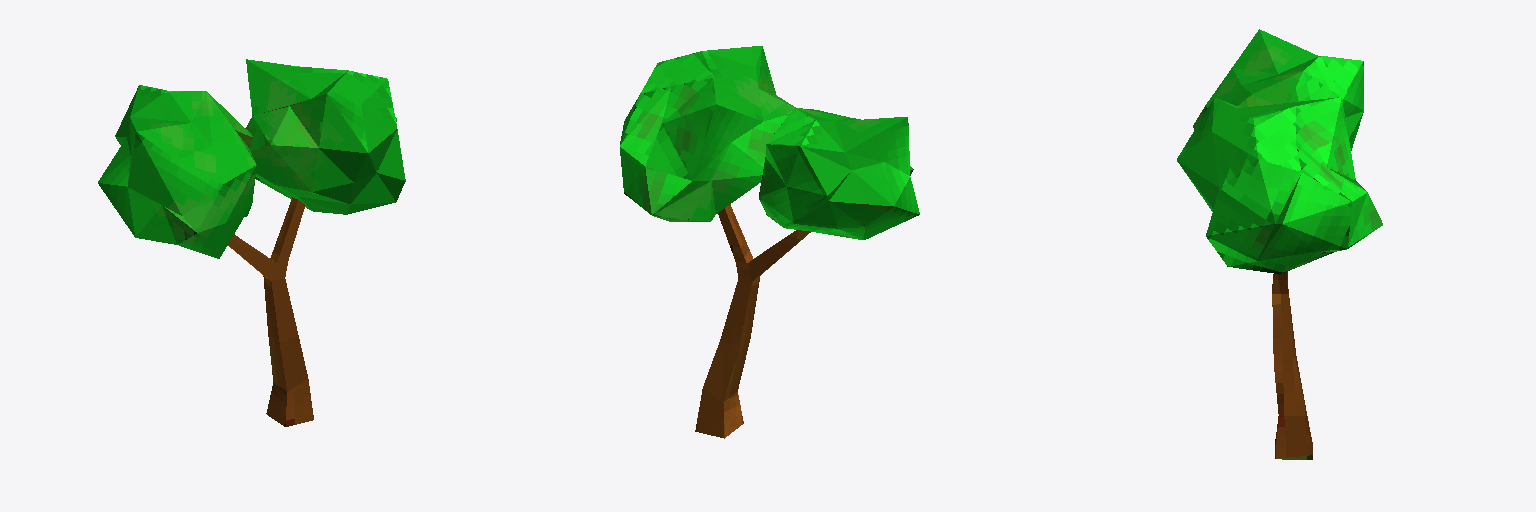
3 renders of one model, left to right at view 1: azimuth 30°, elevation 25°; view 2: azimuth 150°, elevation 25°; view 3: azimuth 270°, elevation 25°, orthographic.
Parts seen in each view (by area): view 1: Tree_1; view 2: Tree_1; view 3: Tree_1.
Boxes of the visible parts, box(x1,y1,x2,y2) form: Tree_1: box(98, 59, 405, 426); Tree_1: box(620, 46, 919, 438); Tree_1: box(1177, 29, 1382, 459).
Size of the model in its own units: 4.82 by 5.73 by 3.04.
1 materials, 1 textured.